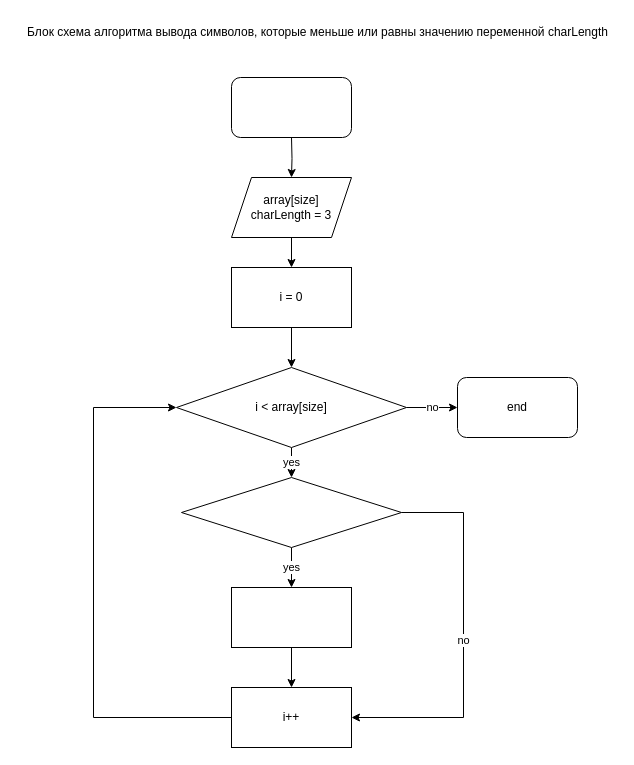
Image size: 634x765. Some labels were removed from this diagram. Each missing label, with the box of its shape:
array[i].Length <= charLength: (180, 476, 402, 548)
print array[i]: (230, 586, 352, 648)
start: (230, 76, 352, 138)
